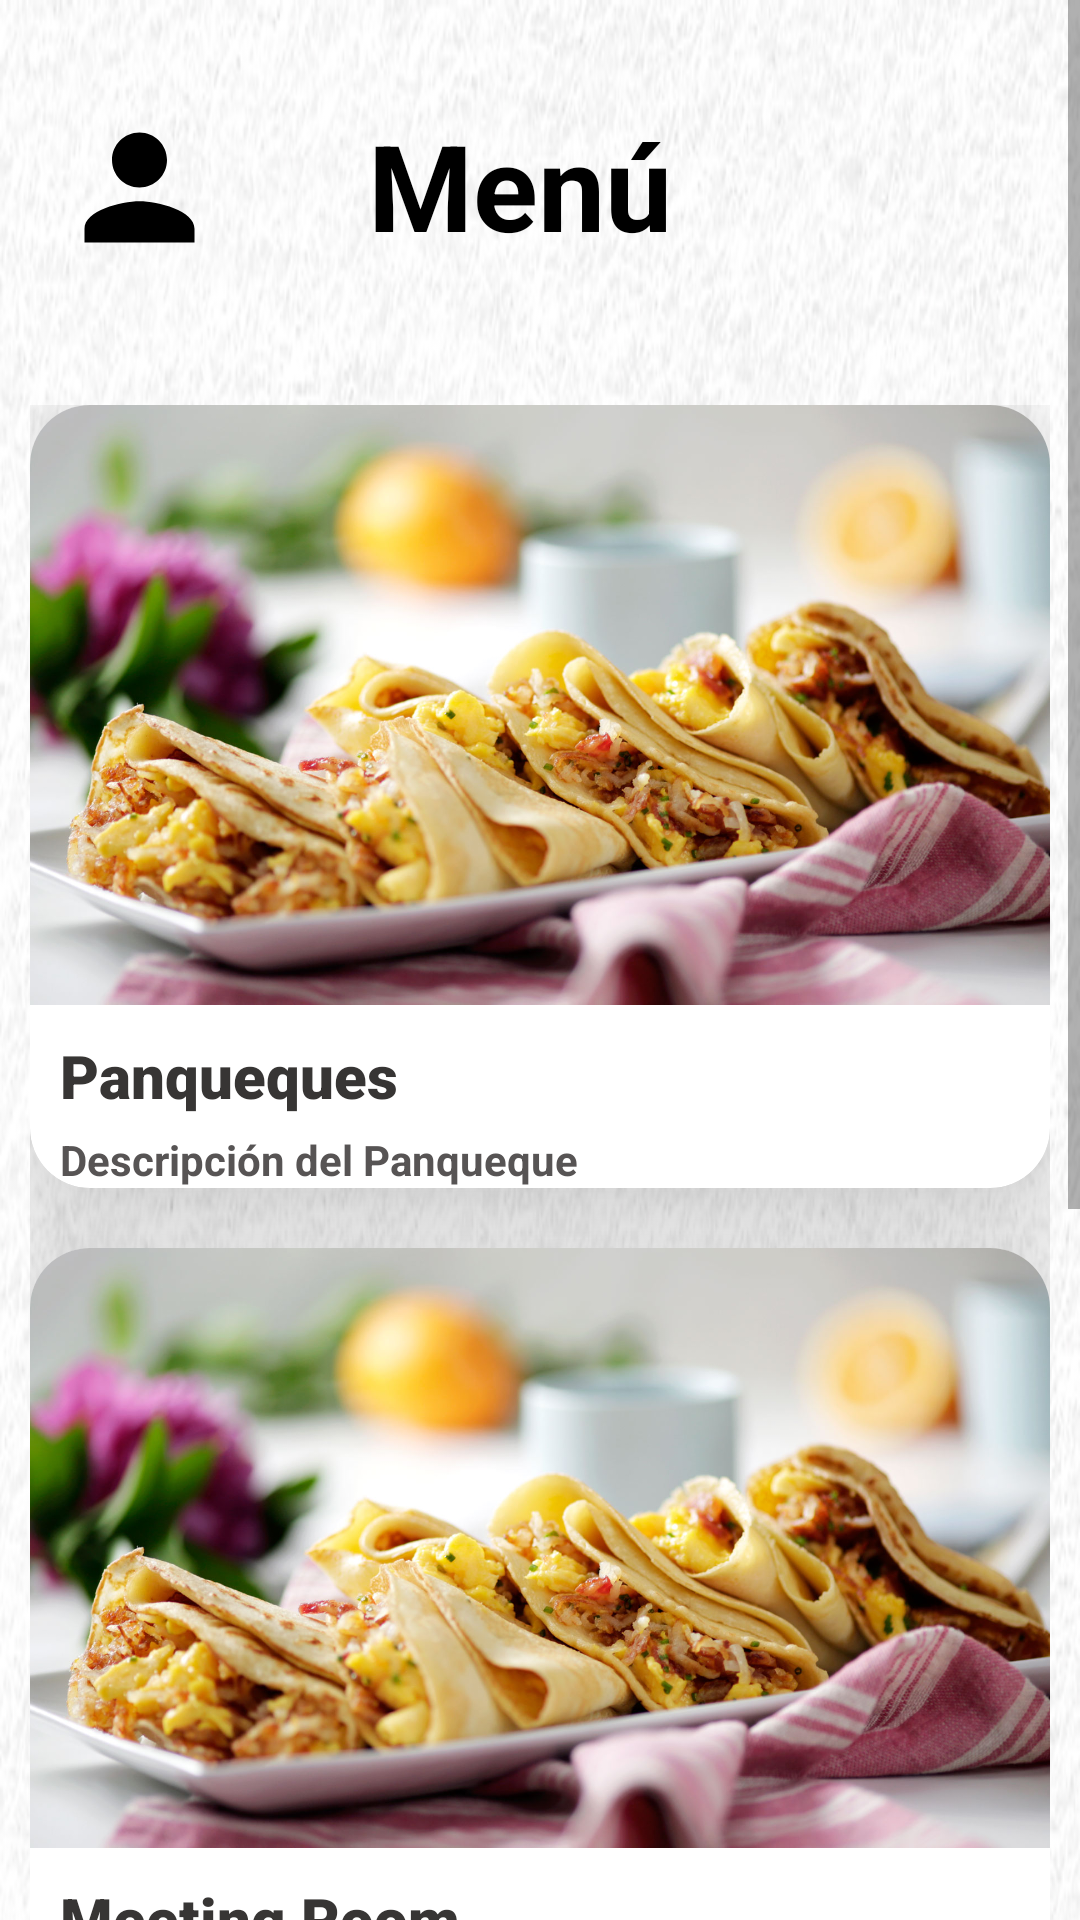

Where icons sit on this 1080x1920 app screen, as (x1, y1, x2, y2):
personaicono: (84, 132, 195, 243)
